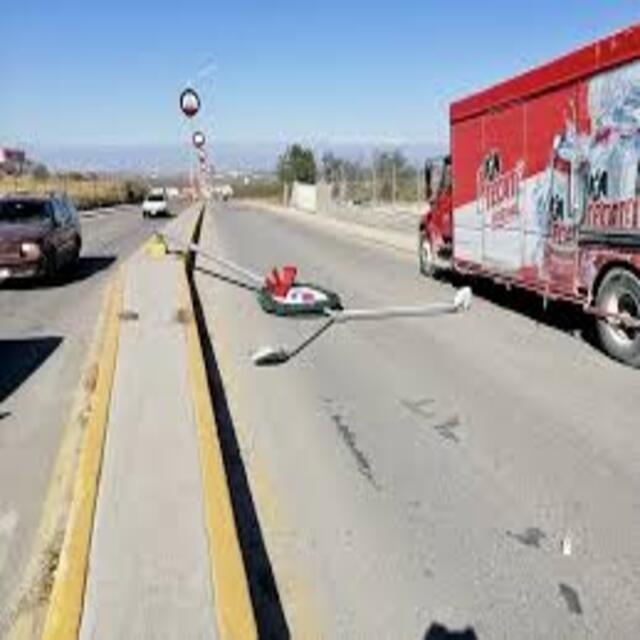Inclined Pole: (152, 216, 489, 374)
